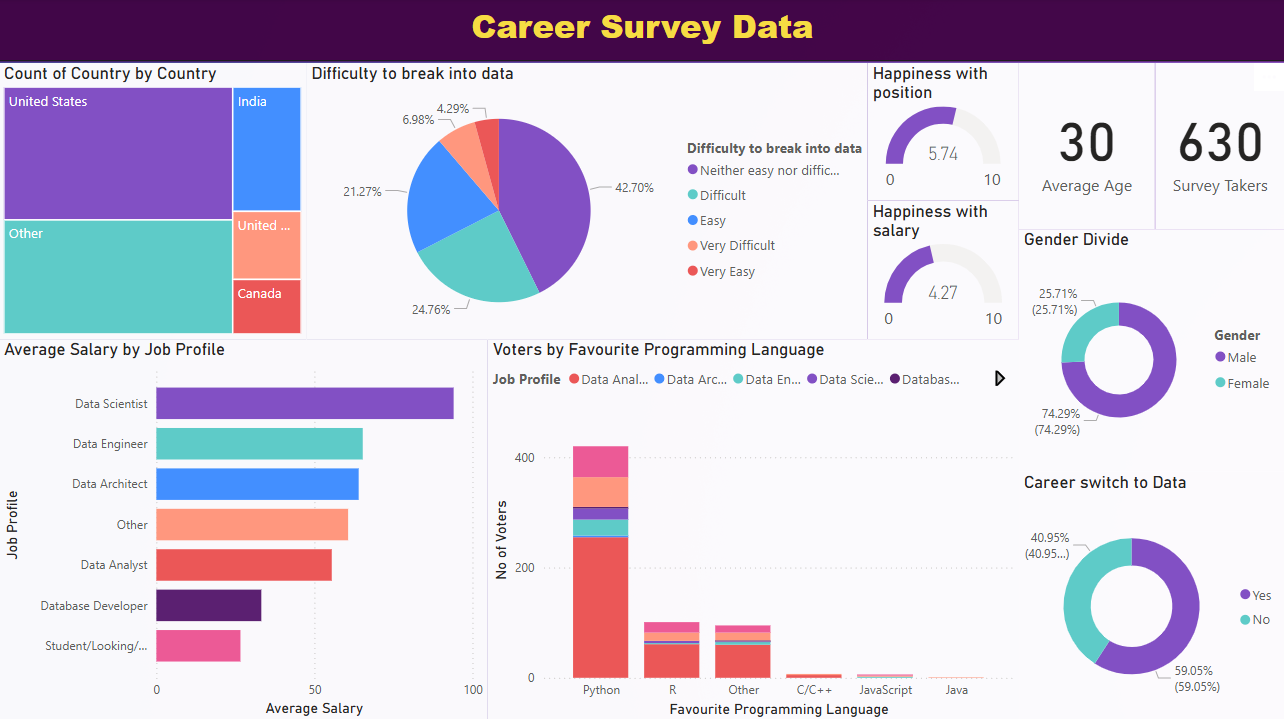

The page's visual inventory and layout, read from the dashboard file:
{"tool":"powerbi","page":{"name":"Page 1","canvas":[1280,720],"ordinal":0},"visuals":[{"type":"textbox","box":[0,0,1280.3,63.1],"z":0},{"type":"card","fields":{"Values":["Count(Data Professional Survey.Unique ID)"]},"box":[1150.6,64.1,129.7,165.4],"z":1000},{"type":"card","fields":{"Values":["Avg(Data Professional Survey.Age)"]},"box":[1015.1,64.7,135.6,165.4],"z":2000},{"type":"barChart","title":"Average Salary by Job Profile","fields":{"Category":["Data Professional Survey.Job Profile"],"Y":["Avg(Data Professional Survey.Average Salary)"],"Series":["Data Professional Survey.Job Profile"]},"box":[0,339.8,485.9,380.1],"z":3000},{"type":"columnChart","title":"Voters by Favourite Programming Language","fields":{"Category":["Data Professional Survey.Favourite Programming Language"],"Y":["CountNonNull(Data Professional Survey.Unique ID)"],"Series":["Data Professional Survey.Job Profile"]},"box":[485.9,339.8,529.1,380.1],"z":4000},{"type":"pieChart","title":"Difficulty to break into data","fields":{"Category":["Data Professional Survey.Difficulty to break into data"],"Y":["CountNonNull(Data Professional Survey.Difficulty to break into data)"]},"box":[306,64.7,558.5,274.9],"z":5000},{"type":"treemap","fields":{"Group":["Data Professional Survey.Country"],"Values":["CountNonNull(Data Professional Survey.Country)"]},"box":[0,64.7,306,274.9],"z":6000},{"type":"donutChart","title":"Career switch to Data","fields":{"Category":["Data Professional Survey.Career Switch to Data"],"Y":["CountNonNull(Data Professional Survey.Unique ID)"]},"box":[1015,471,265.3,248.9],"z":6001},{"type":"gauge","title":"Happiness with position","fields":{"Y":["Avg(Data Professional Survey.Happiness with position)"],"MinValue":["Min(Data Professional Survey.Happiness with position)"],"MaxValue":["Max(Data Professional Survey.Happiness with position)"]},"box":[864.5,64.1,150.5,137.1],"z":6002},{"type":"gauge","title":"Happiness with salary","fields":{"Y":["Avg(Data Professional Survey.Happiness with salary)"],"MinValue":["Min(Data Professional Survey.Happiness with salary)"],"MaxValue":["Max(Data Professional Survey.Happiness with salary)"]},"box":[864.5,201.2,150.5,138.6],"z":6003},{"type":"donutChart","title":"Gender Divide","fields":{"Category":["Data Professional Survey.Gender"],"Y":["CountNonNull(Data Professional Survey.Unique ID)"]},"box":[1015,229.5,265.3,241.5],"z":6004}]}

Visuals, with their boxes in screenshot pixels (x1, y1, x2, y2), scaled from the page's 1280x720 canvas onto the 1284x719 screenshot:
textbox: l=0, t=0, r=1283, b=63
card - Count(Data Professional Survey.Unique ID): l=1154, t=64, r=1283, b=229
card - Avg(Data Professional Survey.Age): l=1018, t=65, r=1154, b=230
"Average Salary by Job Profile" barChart: l=0, t=339, r=487, b=718
"Voters by Favourite Programming Language" columnChart: l=487, t=339, r=1018, b=718
"Difficulty to break into data" pieChart: l=307, t=65, r=867, b=339
treemap - Data Professional Survey.Country x CountNonNull(Data Professional Survey.Country): l=0, t=65, r=307, b=339
"Career switch to Data" donutChart: l=1018, t=470, r=1283, b=718
"Happiness with position" gauge: l=867, t=64, r=1018, b=201
"Happiness with salary" gauge: l=867, t=201, r=1018, b=339
"Gender Divide" donutChart: l=1018, t=229, r=1283, b=470
